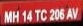character: (4, 10, 12, 24), (40, 8, 47, 21), (66, 8, 73, 21), (71, 7, 78, 20), (12, 10, 19, 22), (34, 9, 41, 21), (58, 8, 64, 20), (26, 10, 32, 21), (21, 10, 26, 23), (49, 8, 54, 21), (54, 8, 59, 21)
